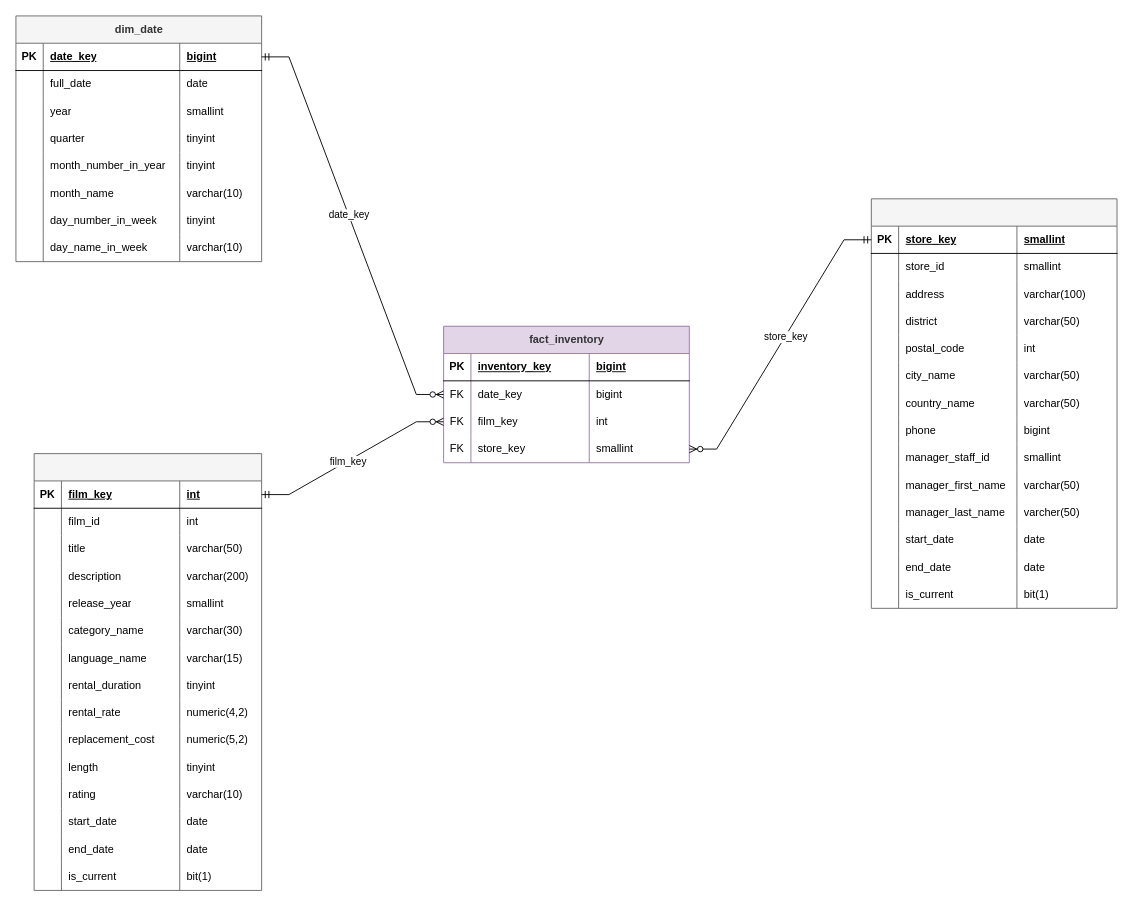
Image size: 1133x906. Some labels were removed from this diagram. Each missing label, with the box of its shape:
dim_film: (33, 453, 262, 890)
dim_store: (870, 198, 1117, 608)
